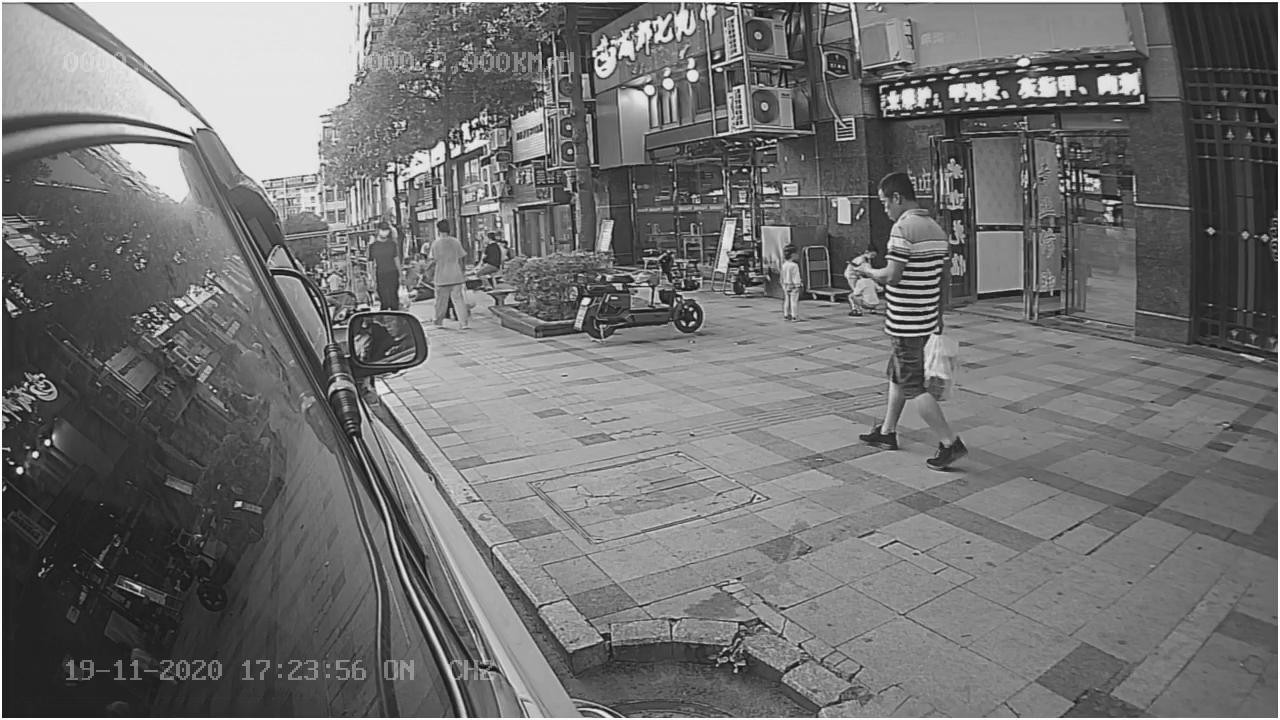person: (844, 170, 979, 478), (778, 236, 809, 320)
